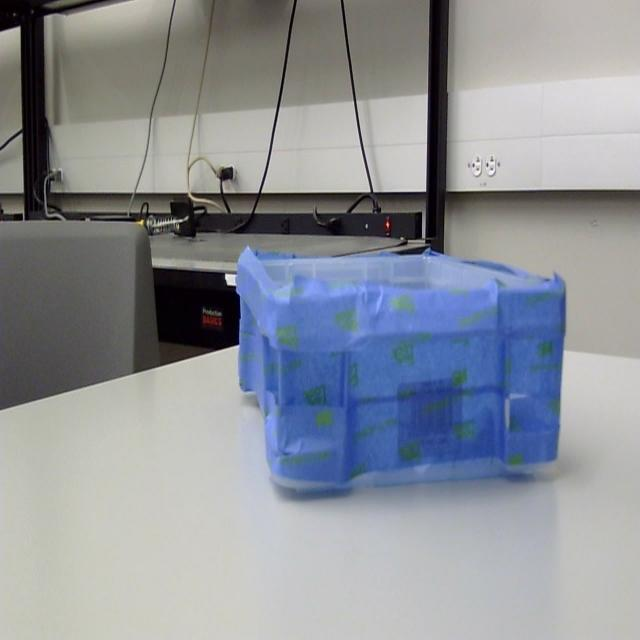bucket: (234, 249, 568, 503)
